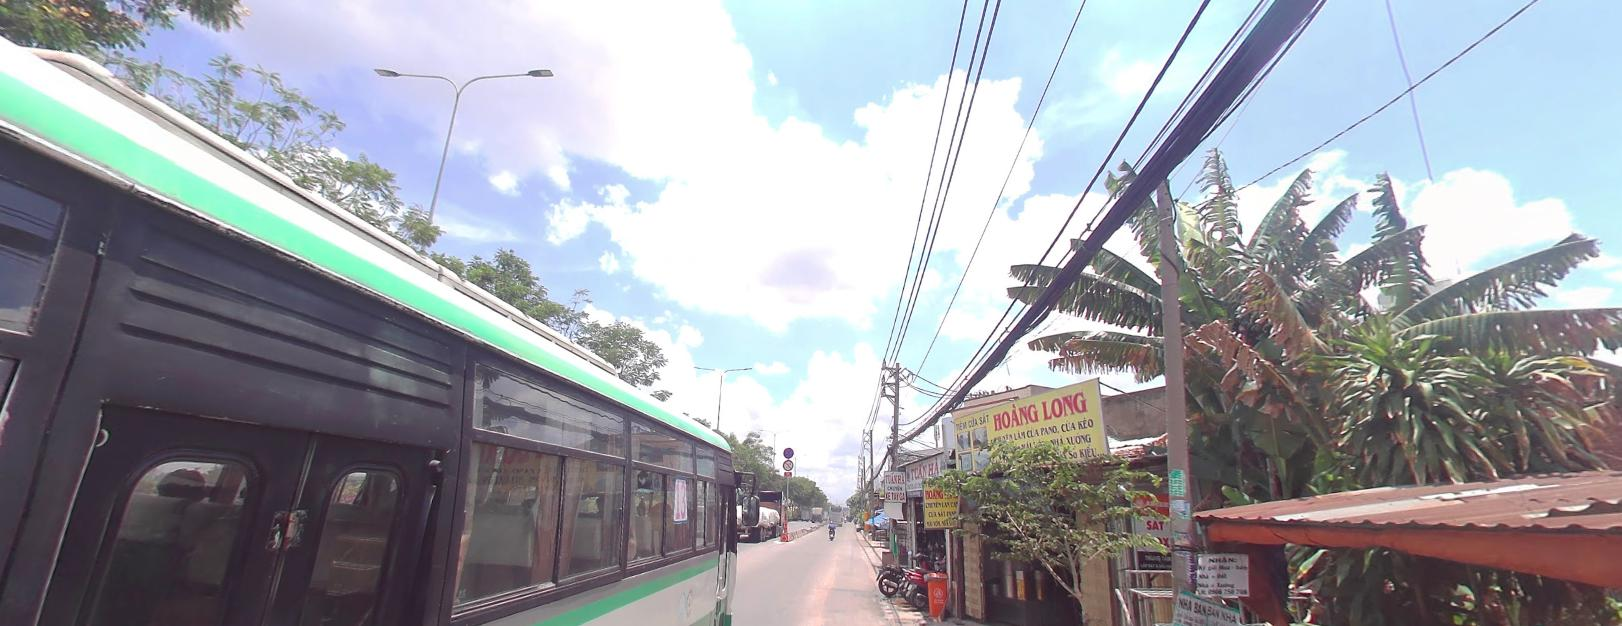Cam con lai: (782, 459, 792, 469)
Cam dung va do: (783, 446, 793, 456)
